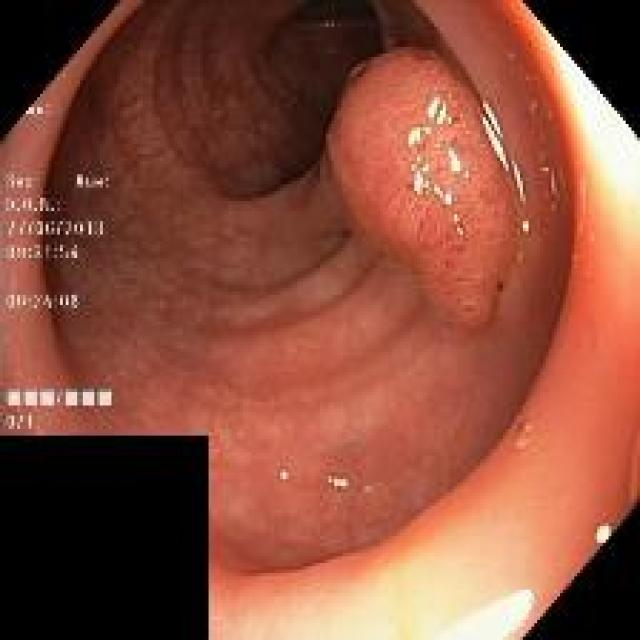Polyps: (328, 47, 516, 328)
